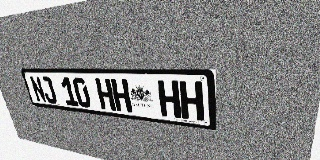0: (72, 77, 92, 108)
1: (59, 77, 79, 106)
H: (179, 81, 204, 121), (157, 80, 181, 118), (110, 79, 132, 113), (95, 78, 116, 111)
J: (39, 76, 58, 104)
N: (29, 76, 47, 103)
